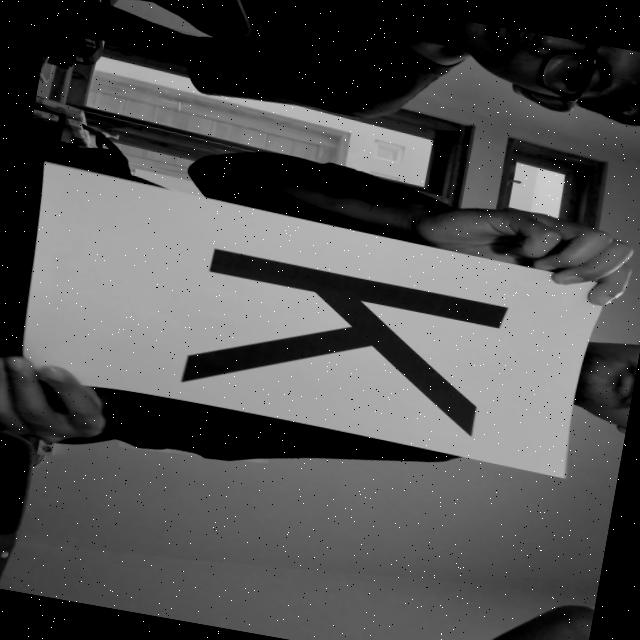k: (145, 235, 531, 452)
